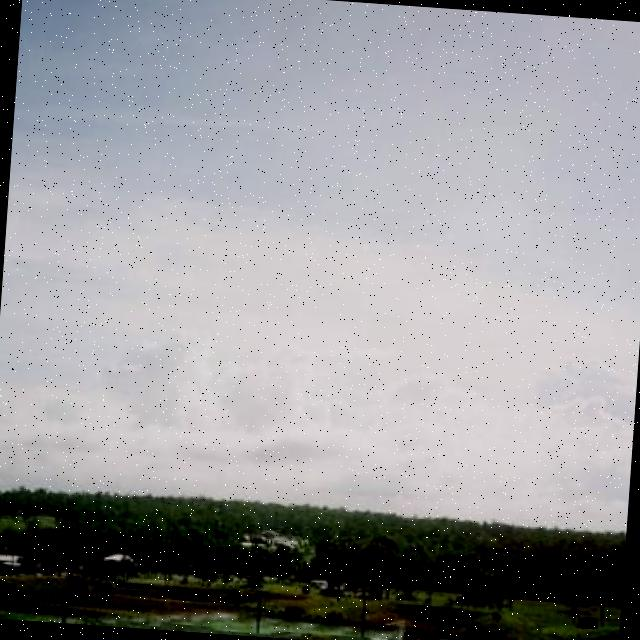St: (1, 38, 640, 477)
